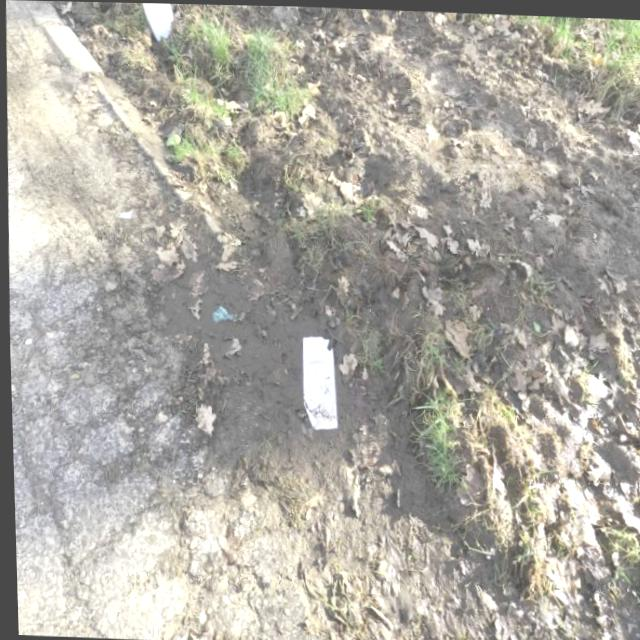Paper: (297, 333, 337, 430)
Plastic: (208, 303, 231, 323)
